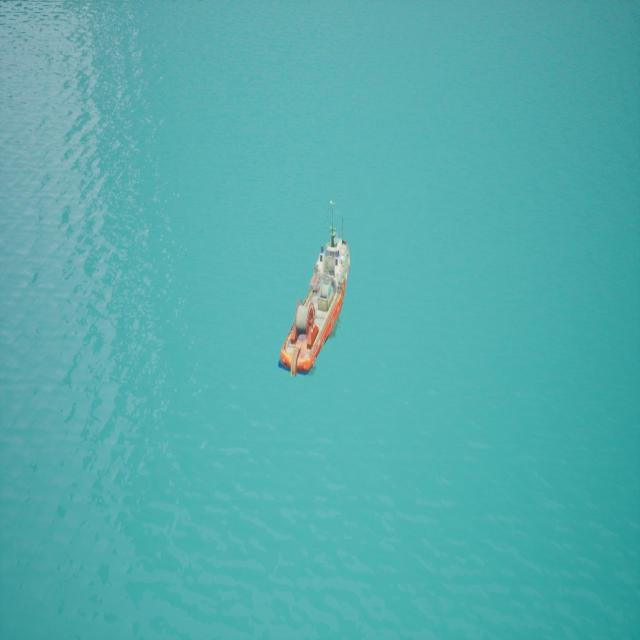tug boat: (286, 201, 352, 380)
